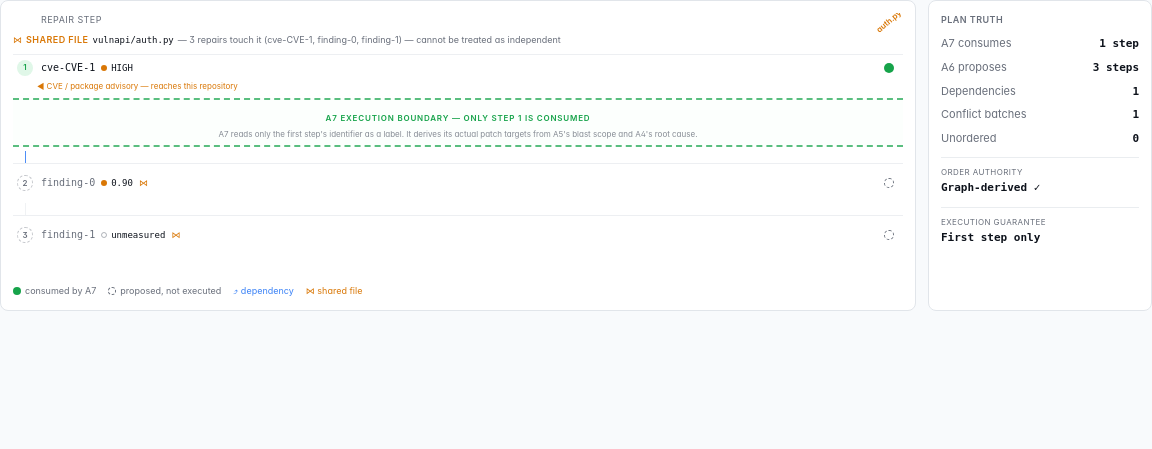
it: RepairImpactMap — multi-step spine (case 2) › expands a step's detail inline on click, including honest ordering and evidence scoping
This screenshot has width=1152, height=449.
Click the text "finding-0": (68, 183) [41, 175, 95, 191]
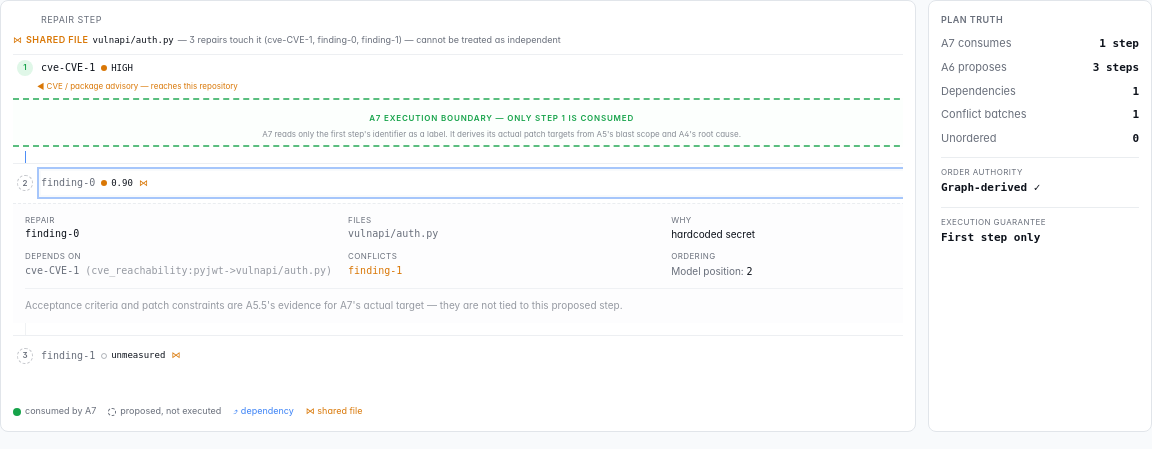
Expected: the text "cve-CVE-1" is shown, [41, 60, 95, 76]
Now the text "Depends on" is shown, box [25, 251, 81, 261]
Now the text "not tied to this proposed step" is shown, box [25, 299, 623, 311]
